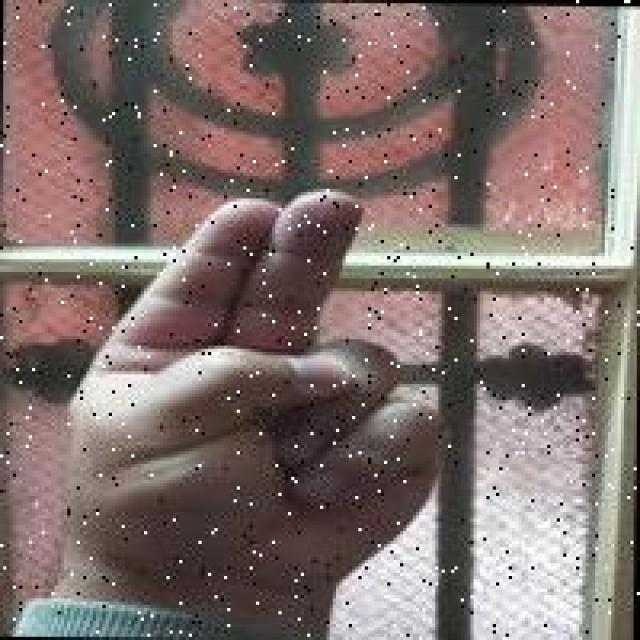U: (46, 168, 453, 603)
